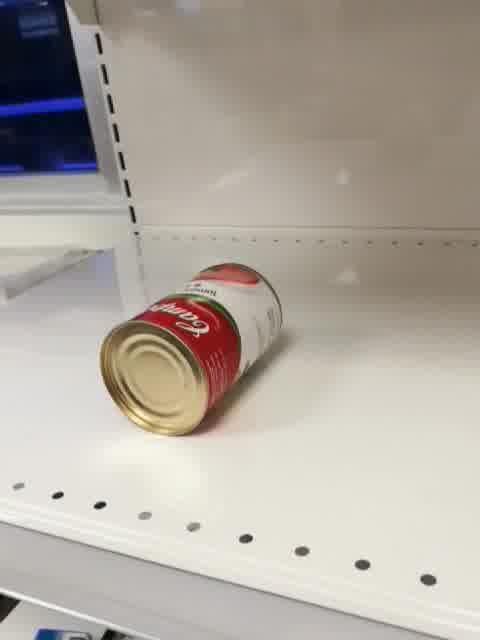tomatosoup: (97, 260, 283, 437)
